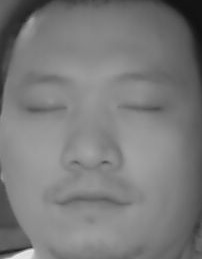blink: (26, 100, 68, 120), (120, 97, 162, 117)
mouth: (60, 185, 129, 222)
